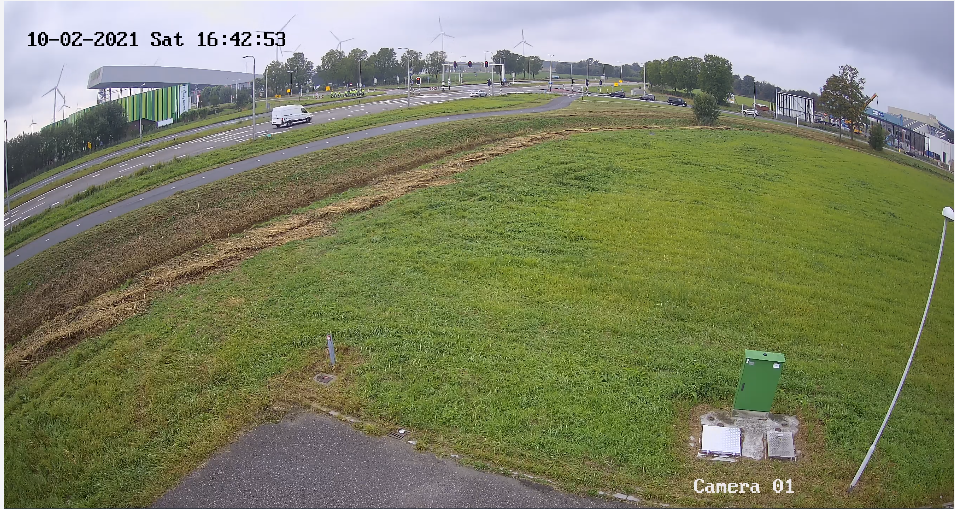werkbus: (266, 98, 321, 130)
